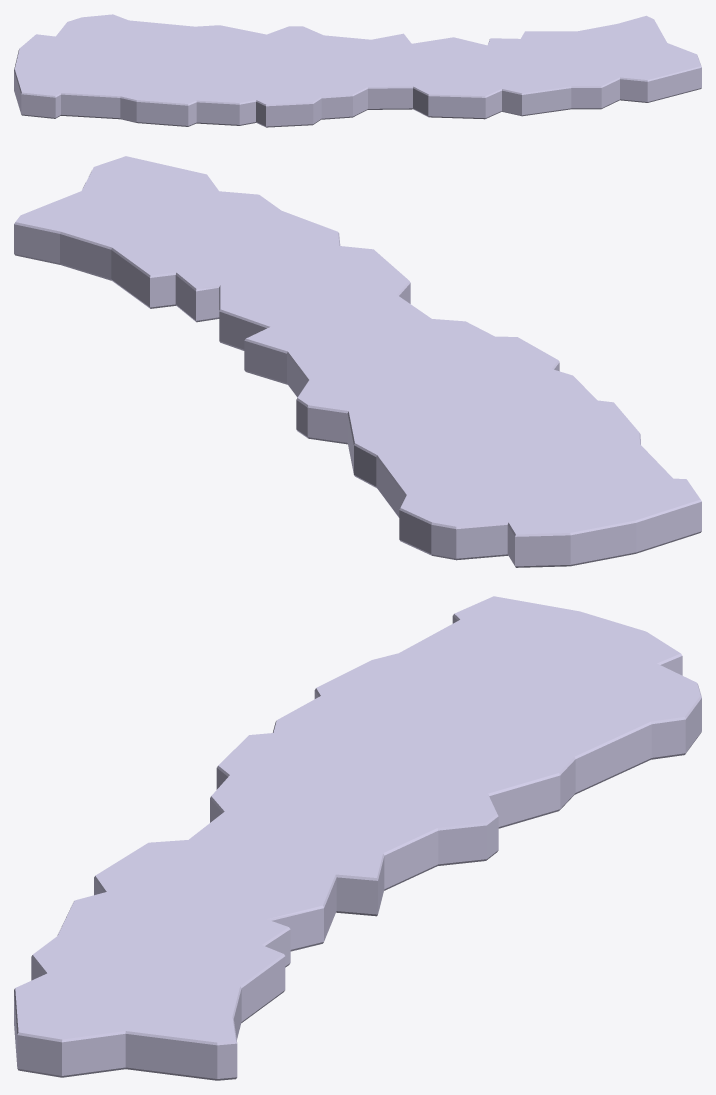
The model's file is NPL.glb.
The picture shows the model from 3 angles, top to bottom: view 1: azimuth 30°, elevation 25°; view 2: azimuth 150°, elevation 25°; view 3: azimuth 270°, elevation 25°; orthographic projection. The views are drawn at different scales.
Size of the model in its own units: 1.71 by 0.068 by 1.11.
